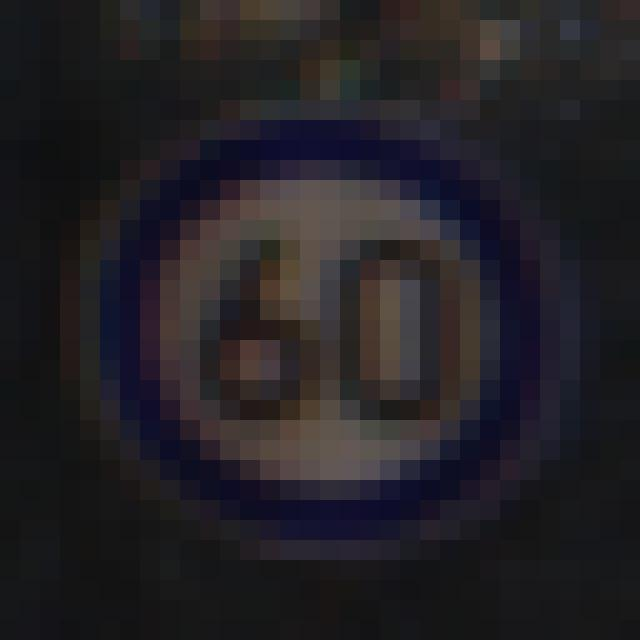SPEED-LIMIT-60: (64, 82, 574, 559)
